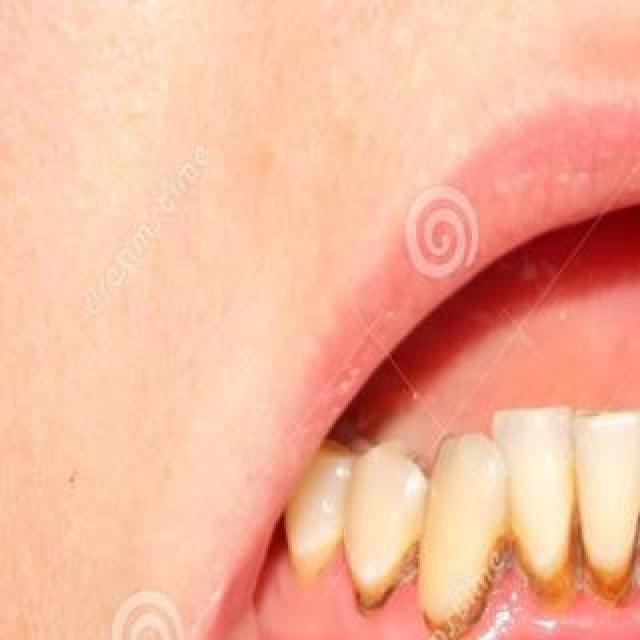calculus: (504, 512, 640, 604), (414, 528, 506, 640), (342, 520, 418, 610)
maligned: (398, 410, 516, 608)
plaque: (279, 515, 345, 607)
